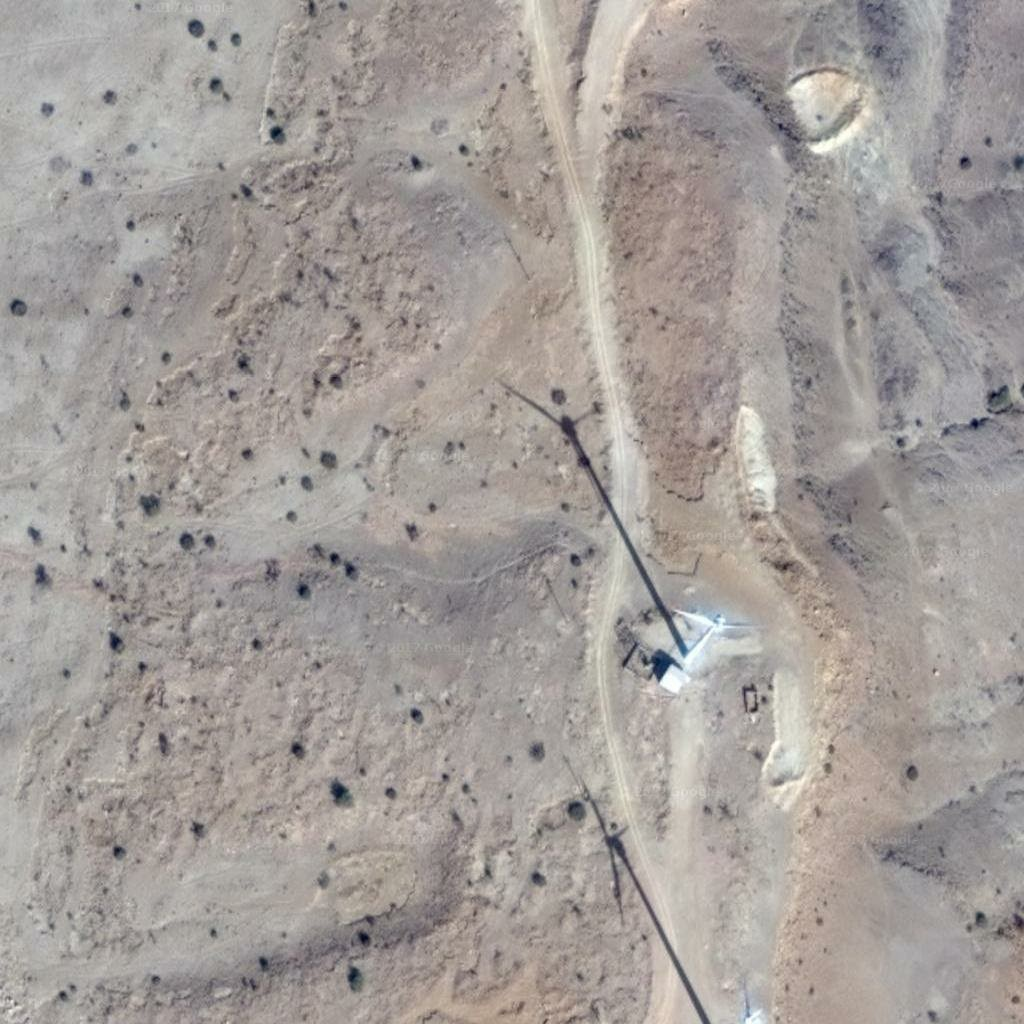Windmill: (487, 369, 696, 643)
